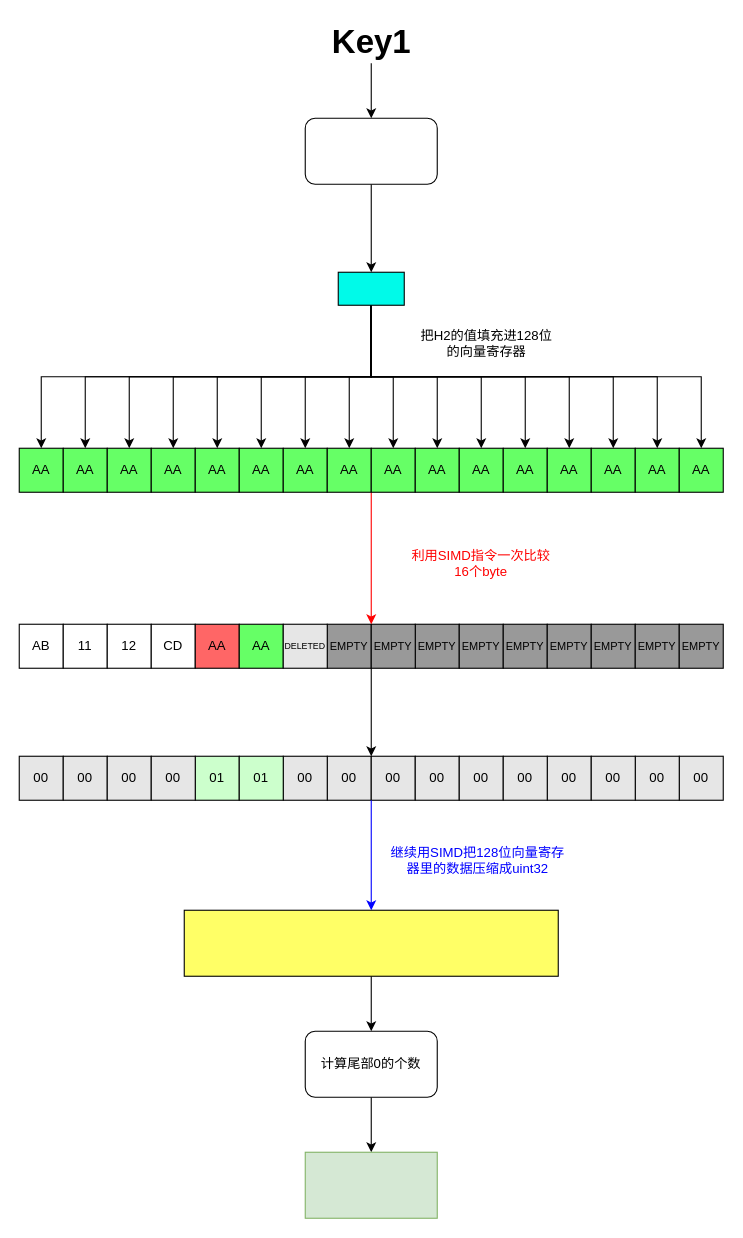
The diagram is 743 pixels wide and 1238 high, and some of its shapes have lost their labels. Here are the shapes that lost their labels. From the top down, the centre of each, then its label:
At point (370, 150): "hash函数".
At point (370, 288): "H2".
At point (370, 942): "BIN(0000000 0101 00000000000000000000)".
At point (370, 1184): "slot的偏移量".
